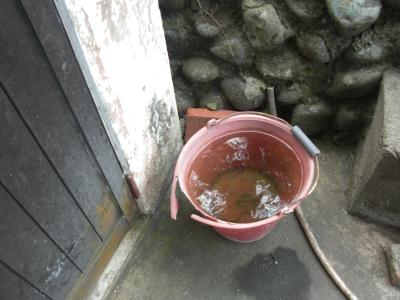bucket: (173, 107, 322, 247)
